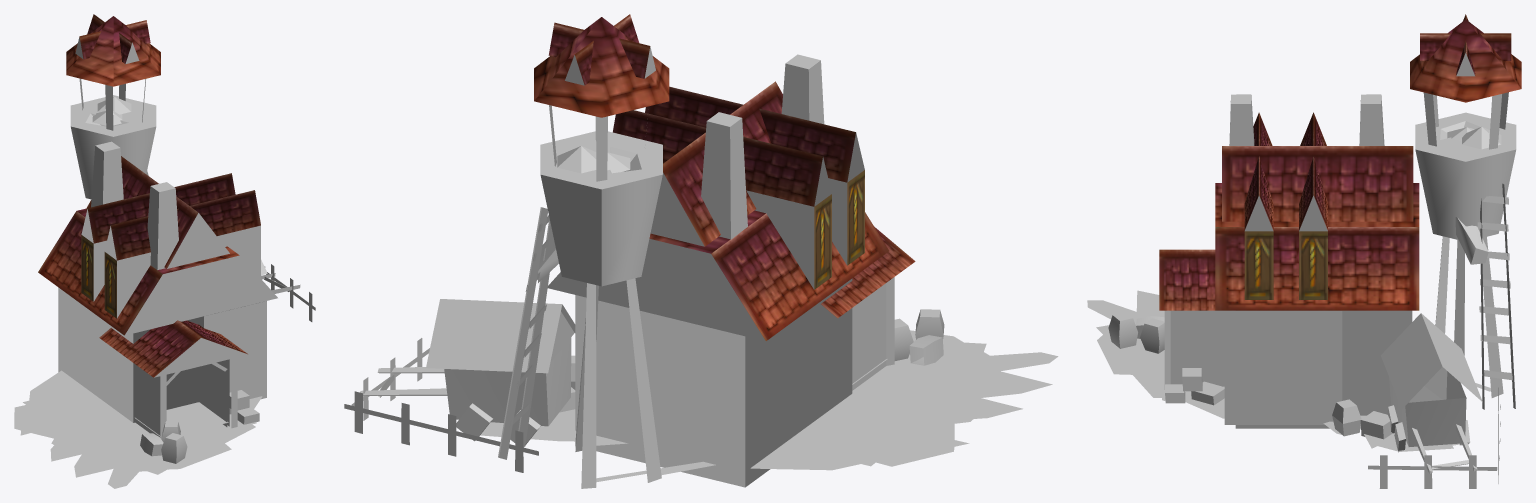
File: StoreHouse_Level03.FBX
3 views of the same model, side by side, from view 1: azimuth 30°, elevation 25°; view 2: azimuth 150°, elevation 25°; view 3: azimuth 270°, elevation 25° (orthographic). The views are drawn at different scales.
Parts seen in each view (by area): view 1: StoreHouse_Level03; view 2: StoreHouse_Level03; view 3: StoreHouse_Level03.
Part boxes in pixels (left/top/right/bottom): StoreHouse_Level03: left=14, top=14, right=315, bottom=488; StoreHouse_Level03: left=344, top=14, right=1058, bottom=488; StoreHouse_Level03: left=1087, top=14, right=1521, bottom=488.
Size of the model in its own units: 947 by 846 by 863.
